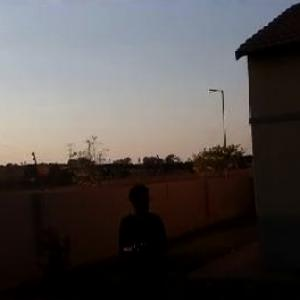follow: (118, 179, 177, 299)
